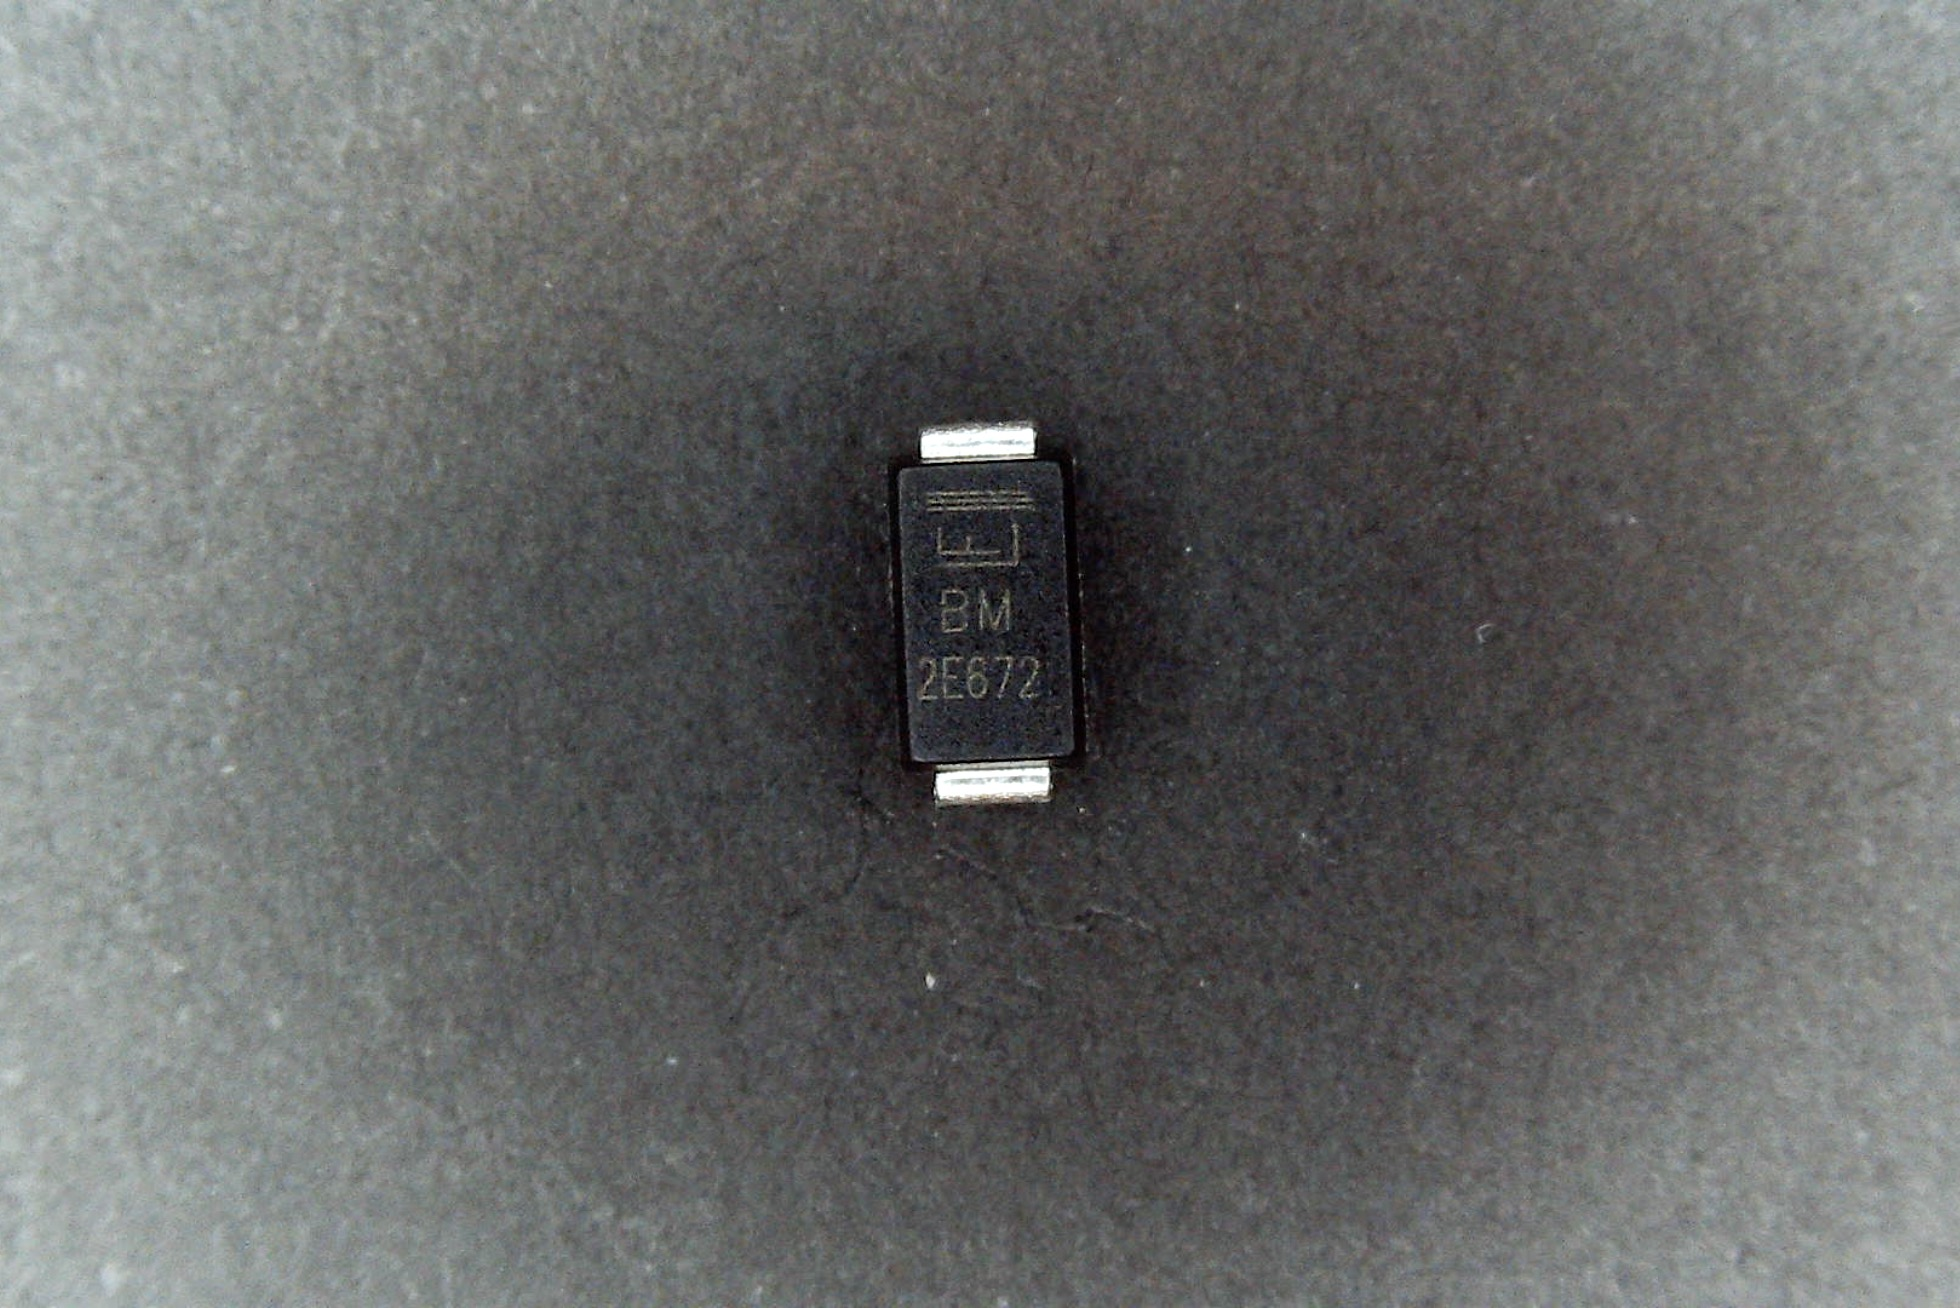bbox: (887, 423, 1093, 815)
